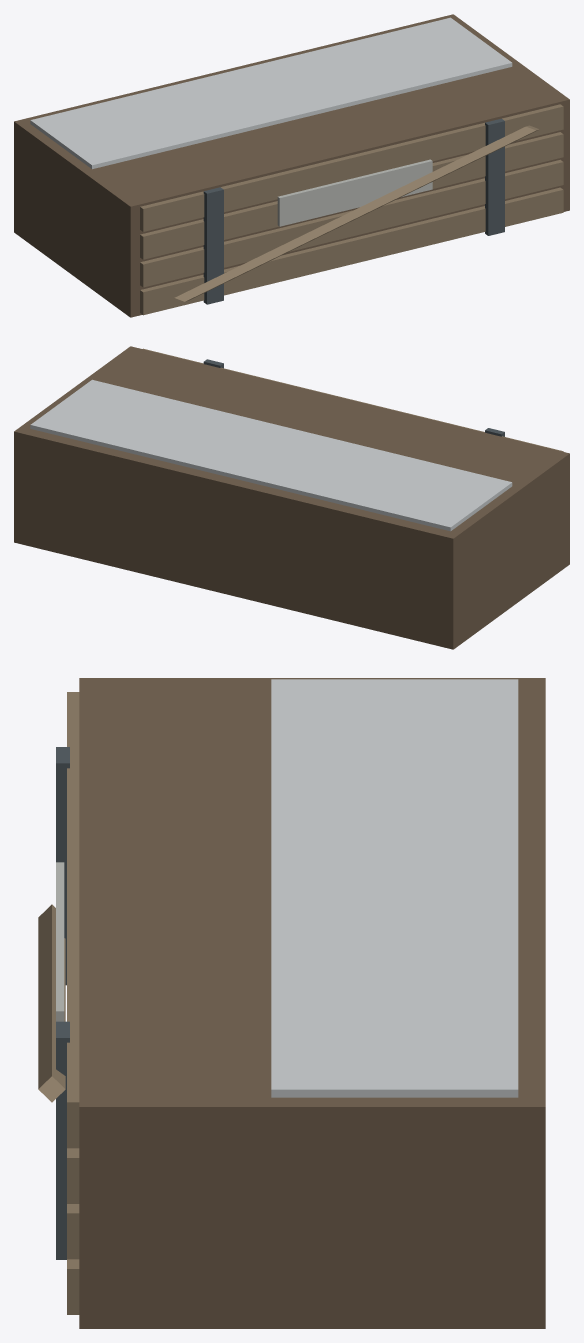
Rendered from relief_crate.glb.
3 renders of one model, top to bottom at view 1: azimuth 30°, elevation 25°; view 2: azimuth 150°, elevation 25°; view 3: azimuth 270°, elevation 25°, orthographic. The views are drawn at different scales.
Visible parts, largest first — view 1: relief_crate; view 2: relief_crate; view 3: relief_crate.
Boxes of the visible parts, x1=… form: relief_crate: x1=14, y1=14, x2=569, y2=317; relief_crate: x1=14, y1=346, x2=569, y2=649; relief_crate: x1=38, y1=678, x2=545, y2=1328.
Bounding box in the file's own units: 1.92 × 0.48 × 0.96.
